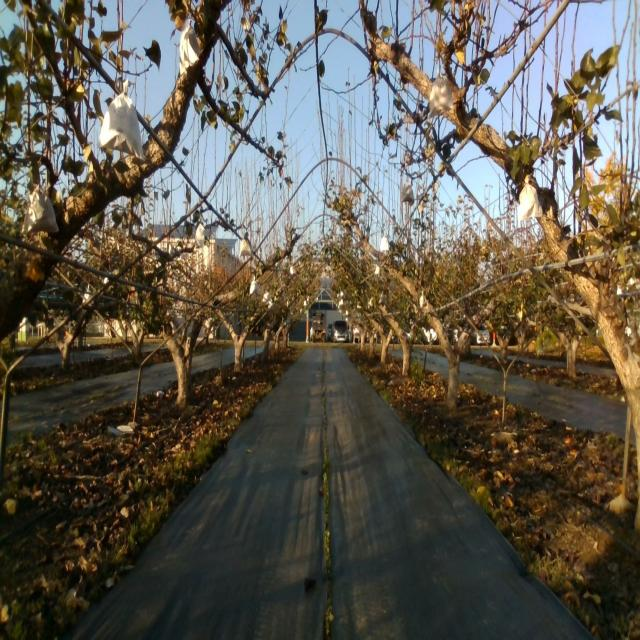pearbags: (100, 78, 143, 160), (21, 185, 58, 234), (519, 177, 544, 226), (430, 72, 454, 119), (178, 19, 198, 75), (238, 237, 252, 258), (402, 182, 414, 203)
